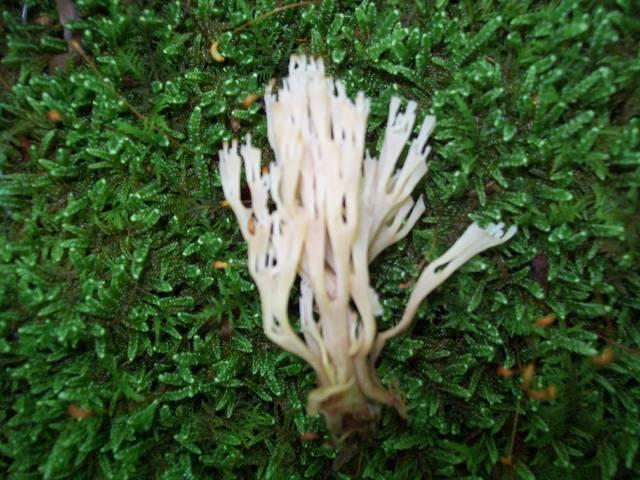Edible Mushroom: (215, 51, 518, 459)
